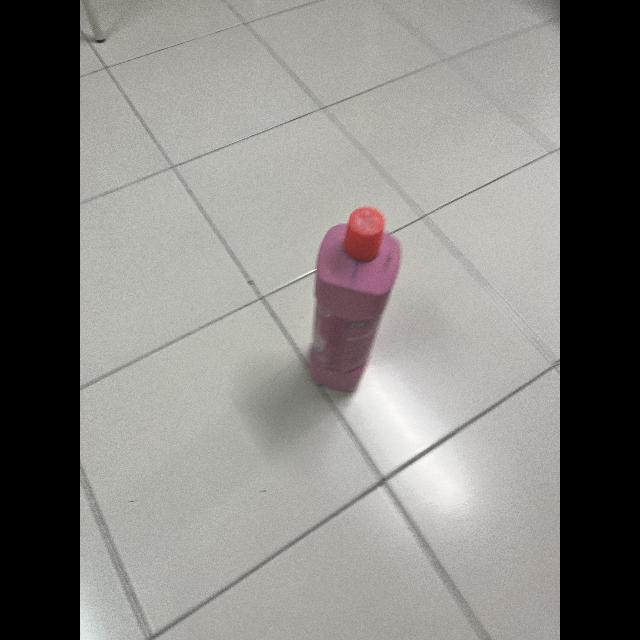chemical_plastic_bottle: (302, 200, 408, 394)
